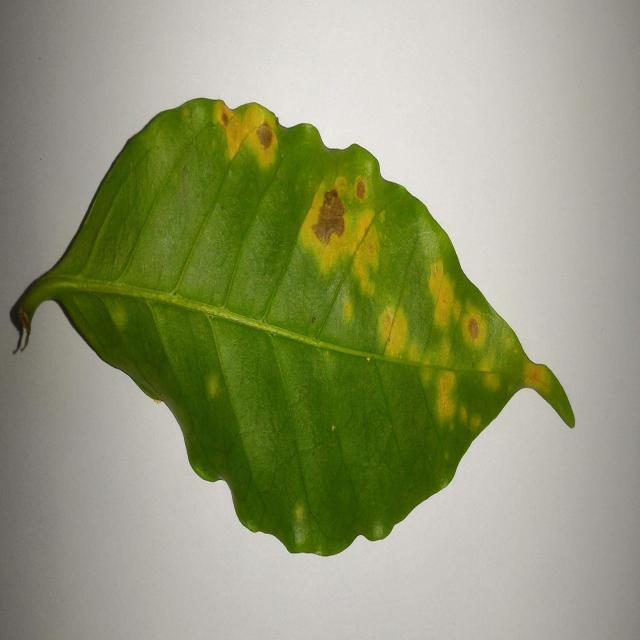rust: (299, 163, 375, 273), (213, 101, 283, 177), (460, 282, 502, 371), (429, 259, 461, 331), (380, 305, 417, 359), (434, 371, 466, 431)
